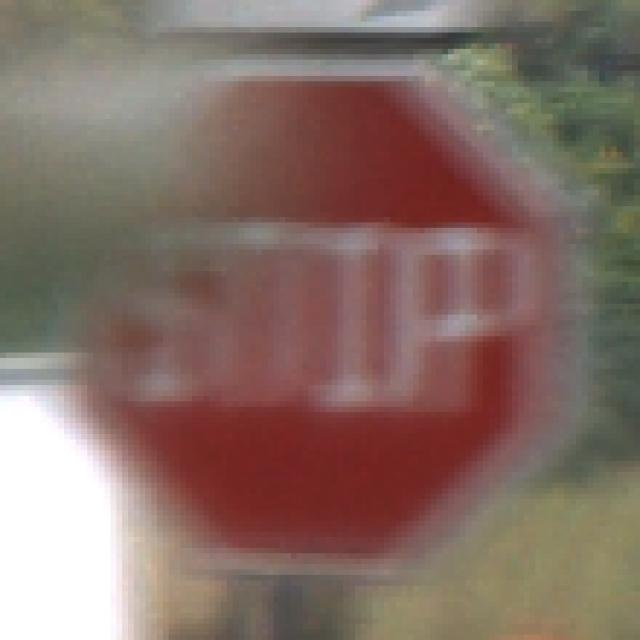STOP: (59, 61, 589, 587)
